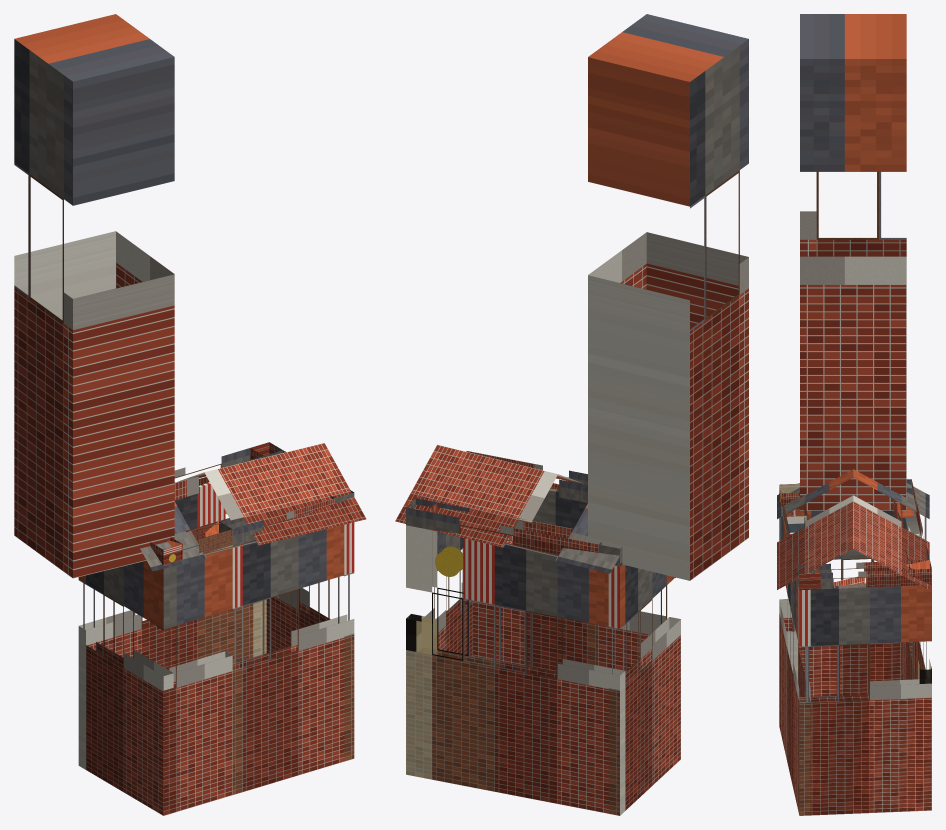
3 views of the same model, side by side, from view 1: azimuth 30°, elevation 25°; view 2: azimuth 150°, elevation 25°; view 3: azimuth 270°, elevation 25° (orthographic). The views are drawn at different scales.
Parts seen in each view (by area): view 1: 238528916__chimney_0_xb, 238528916__wall_2_xb, 238528916__wall_0_xb, 238528916__wall_1_xb, 238528916_roof_-1_xb, 238528916__wall_4_xb, 238528916__wall_3_xb, 238528916__cornice_2, 238528916__cornice_4, 238528916__cornice_1; view 2: 238528916__chimney_0_xb, 238528916__wall_4_xb, 238528916__wall_0_xb, 238528916_roof_1_xb, 238528916__wall_2_xb, 238528916__cornice_4, 238528916__wall_3_xb, 238528916__wall_1_xb, 238528916__cornice_2, 238528916__wall_4_xf; view 3: 238528916__chimney_0_xb, 238528916__wall_3_xb, 238528916__wall_0_xb, 238528916_roof_-1_xb, 238528916_roof_1_xb, 238528916__wall_2_xb, 238528916__cornice_3, 238528916__wall_1_xb, 238528916__wall_4_xb, 238528916__cornice_2, 238528916__cornice_1, 238528916__cornice_4.
Part boxes in pixels (box(x1,y1,x2,y2)): 238528916__chimney_0_xb: box(14, 14, 174, 578); 238528916__wall_2_xb: box(232, 525, 354, 794); 238528916__wall_0_xb: box(78, 560, 173, 815); 238528916__wall_1_xb: box(156, 548, 232, 815); 238528916_roof_-1_xb: box(140, 443, 366, 571); 238528916__wall_4_xb: box(78, 482, 266, 769); 238528916__wall_3_xb: box(266, 522, 354, 761); 238528916__cornice_2: box(219, 498, 335, 546); 238528916__cornice_4: box(174, 445, 282, 500); 238528916__cornice_1: box(163, 521, 232, 565); 238528916__chimney_0_xb: box(588, 14, 748, 580); 238528916__wall_4_xb: box(406, 525, 625, 815); 238528916__wall_0_xb: box(608, 565, 680, 815); 238528916_roof_1_xb: box(395, 444, 622, 573); 238528916__wall_2_xb: box(461, 488, 598, 671); 238528916__cornice_4: box(406, 498, 622, 565); 238528916__wall_3_xb: box(417, 531, 473, 655); 238528916__wall_1_xb: box(598, 577, 675, 671); 238528916__cornice_2: box(467, 451, 587, 502); 238528916__wall_4_xf: box(406, 614, 436, 654); 238528916__chimney_0_xb: box(800, 14, 906, 510); 238528916__wall_3_xb: box(798, 583, 931, 815); 238528916__wall_0_xb: box(779, 509, 912, 696); 238528916_roof_-1_xb: box(777, 469, 853, 589); 238528916_roof_1_xb: box(853, 469, 929, 589); 238528916__wall_2_xb: box(786, 532, 810, 815); 238528916__cornice_3: box(797, 559, 931, 589); 238528916__wall_1_xb: box(779, 516, 797, 758); 238528916__wall_4_xb: box(901, 510, 931, 683); 238528916__cornice_2: box(786, 516, 820, 590); 238528916__cornice_1: box(779, 483, 807, 532); 238528916__cornice_4: box(893, 480, 929, 569).
Bounding box in the file's own units: 0.4146 × 1.05 × 0.2174.
Materials: 1 (1 with a texture image).
